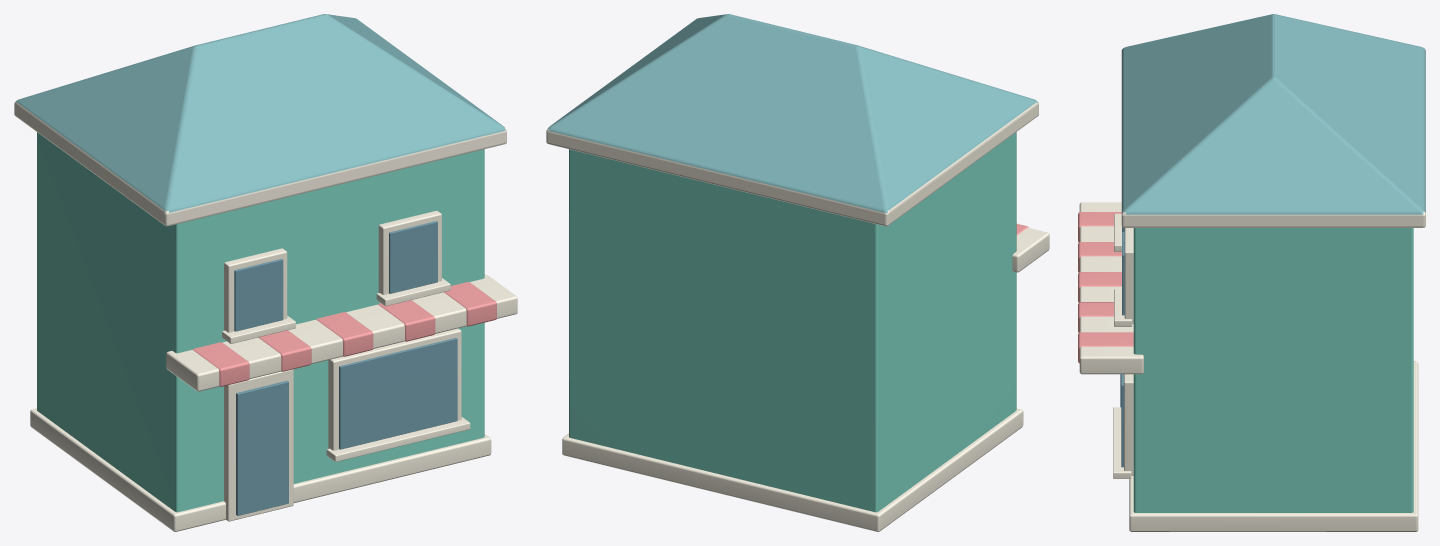
File: CornerShop.fbx
3 views of the same model, side by side, from view 1: azimuth 30°, elevation 25°; view 2: azimuth 150°, elevation 25°; view 3: azimuth 270°, elevation 25° (orthographic).
Parts seen in each view (by area): view 1: Walls, Roof, ShopWindow_Glass, BaseTrim, ShopCanopy, Door, UpperWindow_0_0_Glass, DoorFrame, UpperWindow_0_1_Glass, ShopWindow_Frame, ShopWindow_Sill, UpperWindow_0_0_Frame (+8 smaller); view 2: Walls, Roof, BaseTrim, ShopCanopy; view 3: Walls, Roof, BaseTrim, ShopCanopy, ShopWindow_Frame, UpperWindow_0_1_Frame, CanopyStripe_4, ShopWindow_Sill, CanopyStripe_2, CanopyStripe_1, CanopyStripe_0, CanopyStripe_3.
Part boxes in pixels (box(x1,y1,x2,y2)): Walls: box(37, 132, 484, 512); Roof: box(14, 14, 506, 226); ShopWindow_Glass: box(339, 338, 457, 449); BaseTrim: box(30, 408, 491, 531); ShopCanopy: box(166, 274, 517, 391); Door: box(236, 381, 288, 515); UpperWindow_0_0_Glass: box(234, 258, 283, 331); DoorFrame: box(224, 369, 293, 521); UpperWindow_0_1_Glass: box(389, 221, 437, 293); ShopWindow_Frame: box(328, 328, 461, 450); ShopWindow_Sill: box(326, 417, 470, 461); UpperWindow_0_0_Frame: box(224, 248, 287, 332); Walls: box(569, 132, 1016, 512); Roof: box(546, 14, 1038, 226); BaseTrim: box(562, 408, 1023, 531); ShopCanopy: box(1012, 228, 1049, 272); Walls: box(1133, 228, 1413, 512); Roof: box(1121, 14, 1425, 227); BaseTrim: box(1129, 361, 1418, 531); ShopCanopy: box(1079, 202, 1143, 374); ShopWindow_Frame: box(1124, 374, 1133, 475); UpperWindow_0_1_Frame: box(1124, 228, 1133, 323); CanopyStripe_4: box(1078, 332, 1133, 363); ShopWindow_Sill: box(1113, 407, 1131, 478); CanopyStripe_2: box(1078, 272, 1121, 302); CanopyStripe_1: box(1078, 242, 1121, 272); CanopyStripe_0: box(1078, 212, 1121, 242); CanopyStripe_3: box(1078, 302, 1113, 332).
Size of the model in its own units: 5.2 by 5.97 by 4.6.
